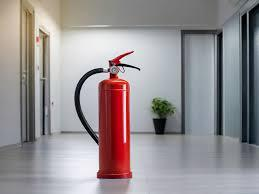floor-kept: (65, 45, 150, 187)
